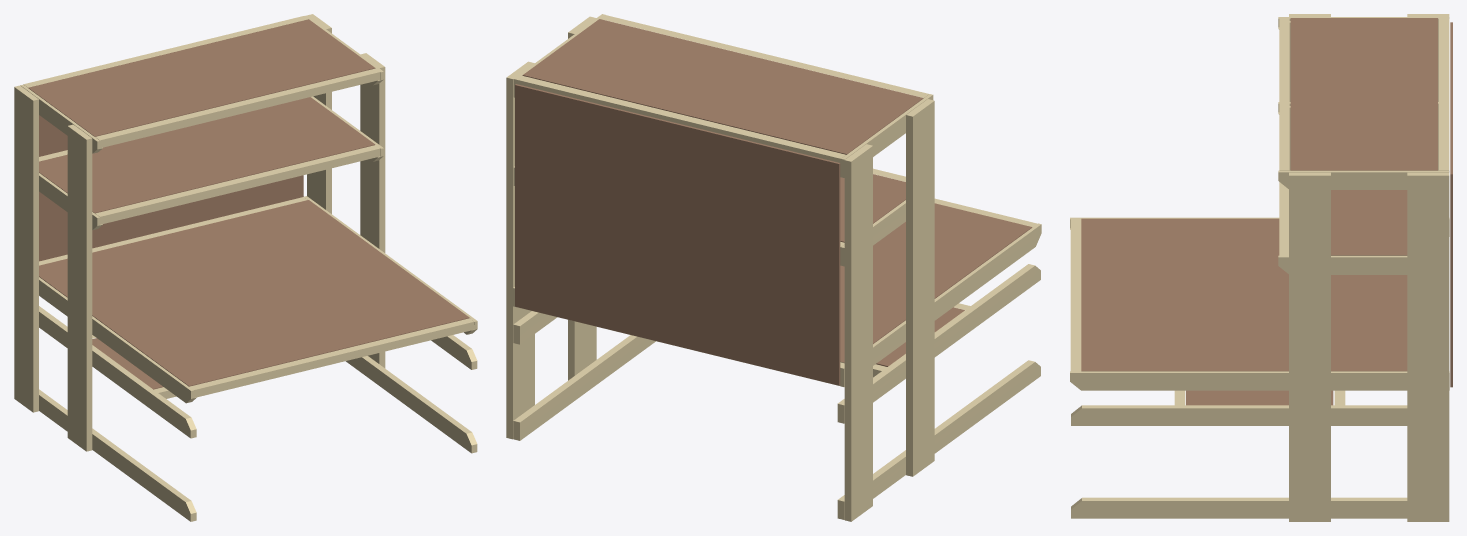
Rendered from sh-kl-custom-desk.glb.
The picture shows the model from 3 angles, left to right: view 1: azimuth 30°, elevation 25°; view 2: azimuth 150°, elevation 25°; view 3: azimuth 270°, elevation 25°; orthographic projection. The views are drawn at different scales.
Visible parts, largest first — view 1: back, legs; view 2: back, legs; view 3: back, legs.
Part boxes in pixels (x1=…): back: x1=28, y1=19, x2=469, y2=389; legs: x1=14, y1=14, x2=477, y2=521; back: x1=515, y1=19, x2=1032, y2=385; legs: x1=506, y1=14, x2=1041, y2=521; back: x1=1081, y1=18, x2=1452, y2=405; legs: x1=1070, y1=14, x2=1449, y2=521.
Size of the model in its own units: 1 by 1 by 1.
